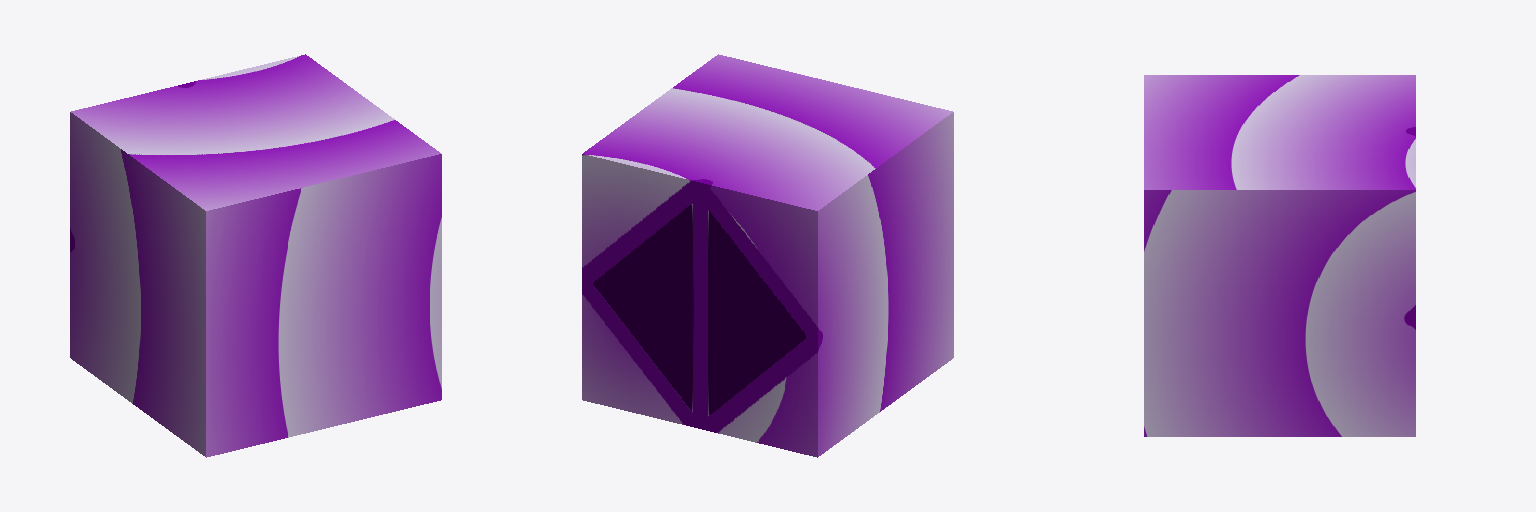
3 renders of one model, left to right at view 1: azimuth 30°, elevation 25°; view 2: azimuth 150°, elevation 25°; view 3: azimuth 270°, elevation 25°, orthographic.
Parts seen in each view (by area): view 1: 立方体; view 2: 立方体; view 3: 立方体.
Part boxes in pixels (left/top/right/bottom): 立方体: left=70, top=54, right=441, bottom=457; 立方体: left=582, top=54, right=953, bottom=457; 立方体: left=1144, top=75, right=1415, bottom=436.
Bounding box in the file's own units: 2 × 2 × 2.
Materials: 1 (1 with a texture image).